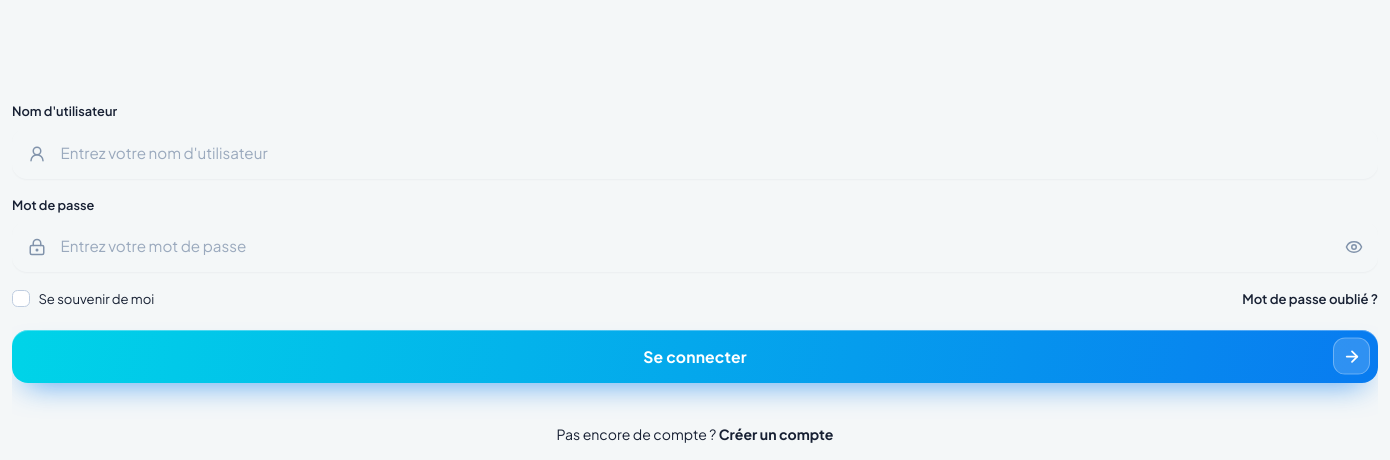
Test: Login › confirme visuellement une connexion réussie
The image size is (1390, 460).
Type "jdupont" into the field labelled "Nom d'utilisateur".
click(712, 154); type("jdupont")  # box [46, 129, 1378, 178]
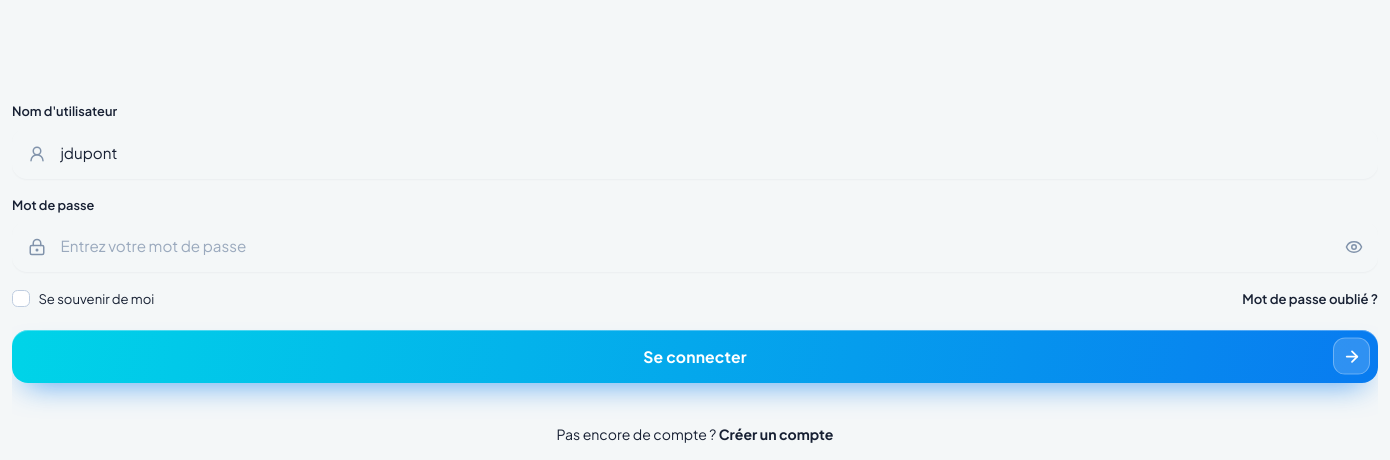
Type "bon-mdp" into the password field labelled "Mot de passe".
click(688, 247); type("bon-mdp")  # box [46, 222, 1330, 271]
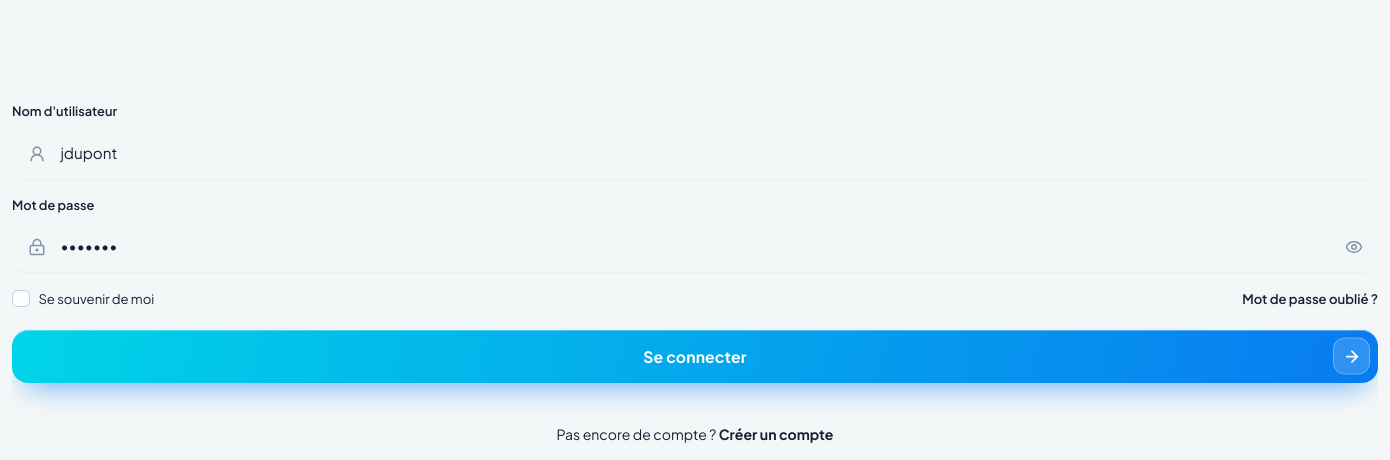
Click the button "Se connecter".
click(695, 356)  # box [12, 330, 1378, 383]
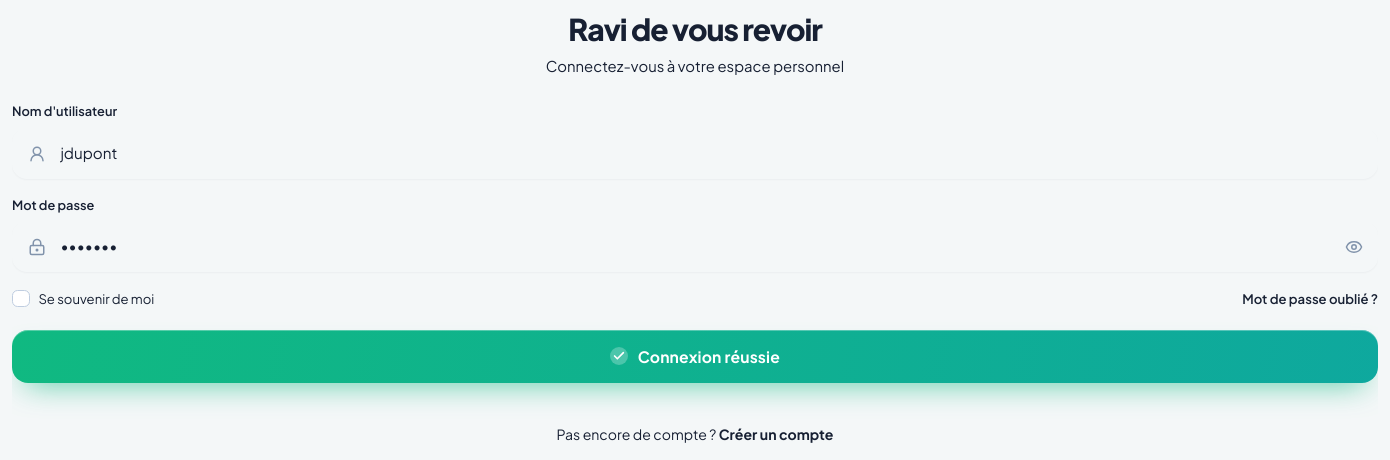
Now the button "Connexion réussie" is shown, box [12, 330, 1378, 383]
